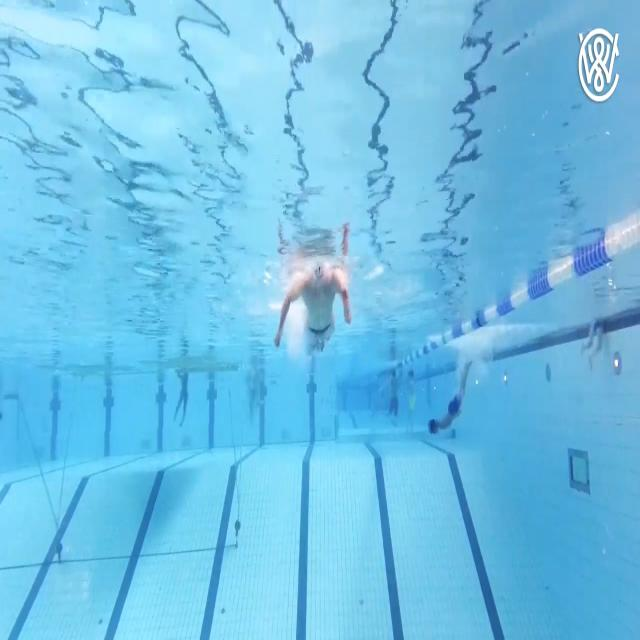Swimming: (272, 271, 357, 355), (427, 358, 475, 437)
